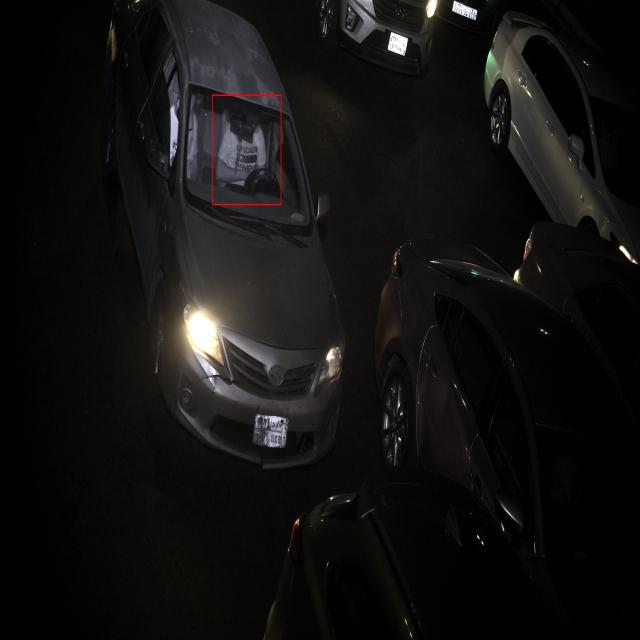windshield: (183, 79, 312, 241)
